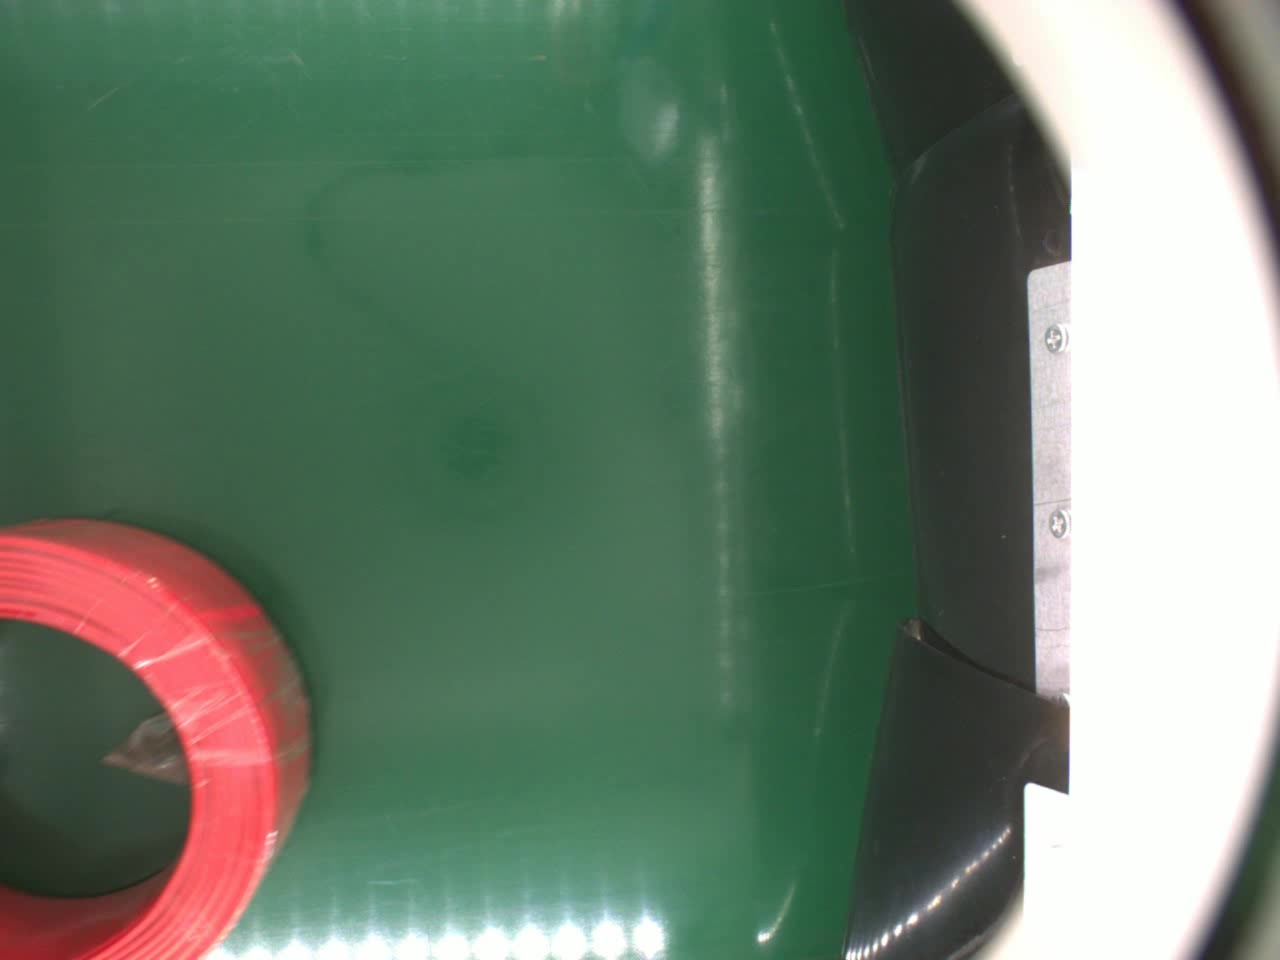red: (0, 508, 317, 960)
